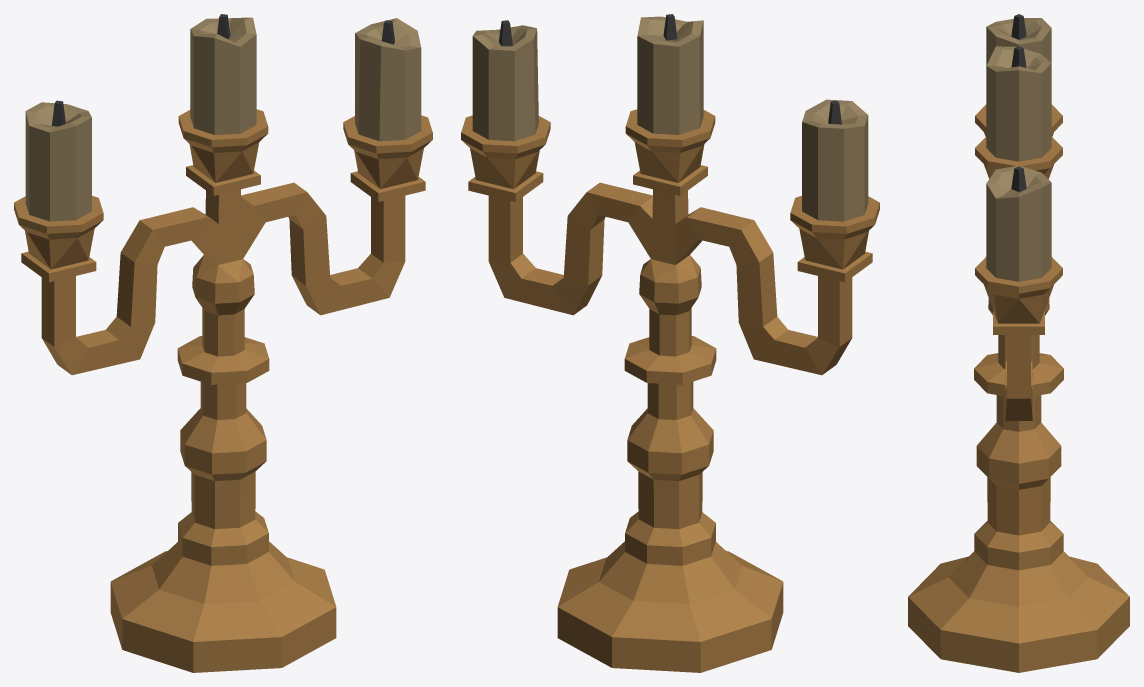
The model's file is SM_Item_Candelabra_01.glb.
The picture shows the model from 3 angles, left to right: view 1: azimuth 30°, elevation 25°; view 2: azimuth 150°, elevation 25°; view 3: azimuth 270°, elevation 25°; orthographic projection. The views are drawn at different scales.
Parts seen in each view (by area): view 1: SM_Item_Candelabra_01; view 2: SM_Item_Candelabra_01; view 3: SM_Item_Candelabra_01.
Boxes of the visible parts, box(x1,y1,x2,y2) form: SM_Item_Candelabra_01: box(14, 14, 432, 672); SM_Item_Candelabra_01: box(461, 14, 879, 672); SM_Item_Candelabra_01: box(908, 14, 1129, 672).
Bounding box in the file's own units: 0.00432 × 0.00615 × 0.00214.
